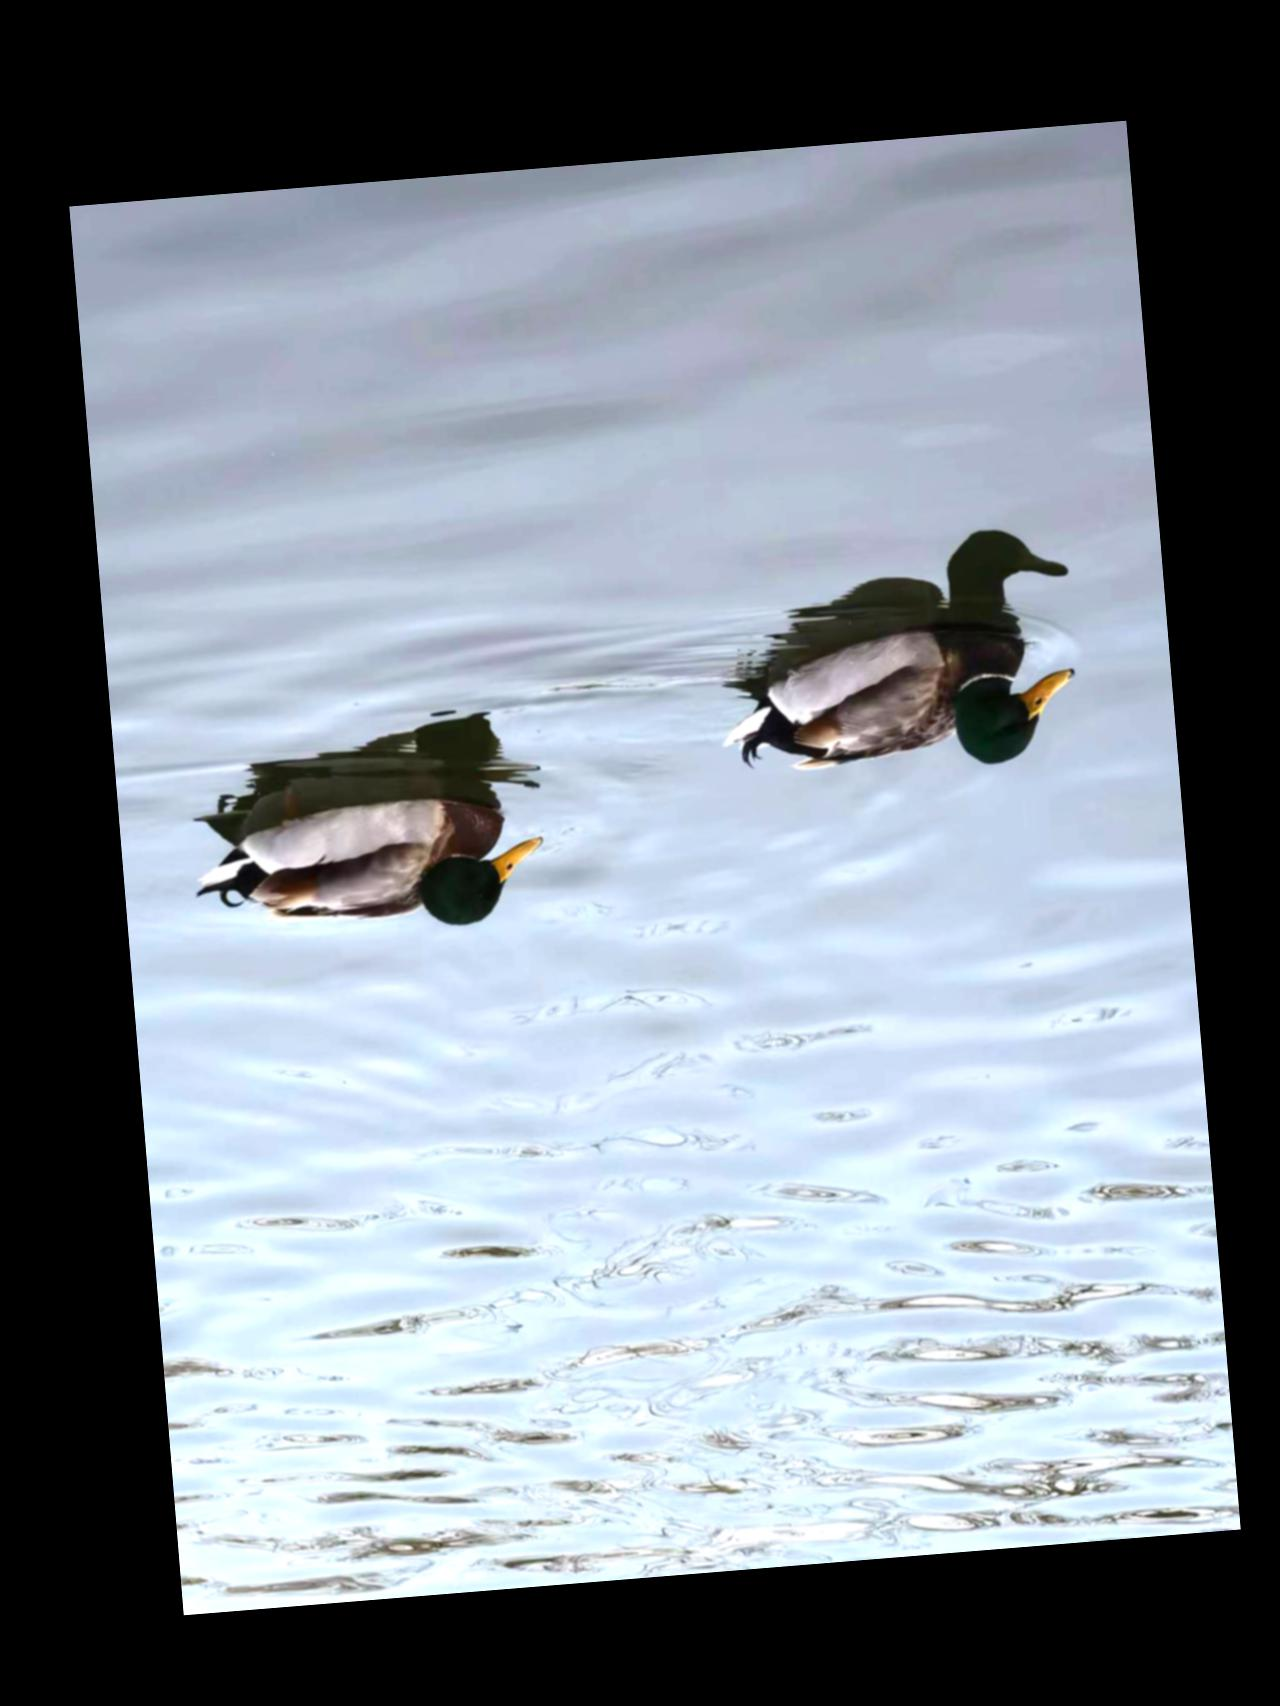duck: (182, 734, 562, 972), (699, 604, 1082, 813)
